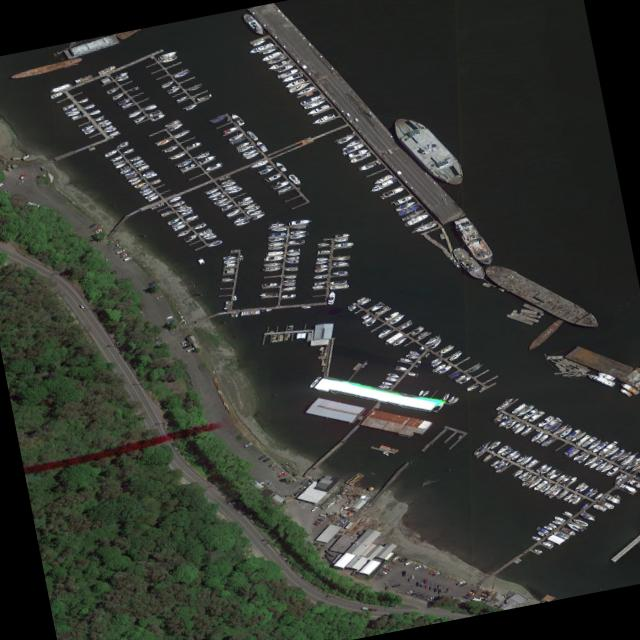large-vehicle: (122, 257, 132, 262)
ship: (474, 262, 607, 333), (383, 113, 475, 191), (563, 346, 635, 380), (451, 216, 498, 268), (9, 56, 84, 82), (447, 246, 491, 282), (62, 34, 119, 60), (522, 319, 566, 352), (239, 12, 268, 37), (585, 373, 616, 388), (368, 179, 397, 193), (503, 313, 534, 326), (409, 222, 437, 235), (342, 472, 366, 487), (471, 440, 493, 456), (247, 42, 274, 55), (404, 213, 430, 226), (400, 209, 426, 222), (287, 81, 313, 94), (618, 451, 640, 466), (493, 397, 516, 411), (311, 113, 335, 126), (48, 82, 72, 95), (305, 104, 330, 116), (266, 60, 290, 72), (345, 148, 369, 160), (595, 443, 617, 456), (259, 51, 282, 63), (299, 95, 322, 107), (302, 99, 327, 110), (514, 405, 535, 418), (393, 201, 417, 212), (348, 153, 372, 164), (618, 383, 640, 395), (514, 313, 540, 323), (397, 205, 420, 216), (280, 73, 303, 84), (342, 143, 365, 154), (382, 187, 405, 198), (156, 50, 179, 61), (520, 303, 543, 314), (590, 441, 609, 454), (283, 78, 305, 89), (335, 134, 357, 145), (535, 416, 555, 428), (622, 458, 640, 471), (266, 55, 287, 66), (564, 522, 585, 533), (519, 475, 538, 487), (607, 449, 626, 461), (568, 431, 587, 443), (546, 487, 565, 499), (540, 419, 559, 431), (526, 411, 545, 423), (519, 409, 538, 421), (228, 113, 245, 126), (72, 74, 94, 84), (617, 483, 637, 494), (197, 154, 217, 165), (602, 447, 620, 459), (585, 439, 603, 451), (573, 434, 591, 446), (509, 403, 527, 415), (279, 68, 300, 78), (372, 175, 393, 185), (248, 160, 269, 170), (387, 314, 406, 325), (306, 377, 323, 389), (295, 86, 315, 96), (357, 162, 377, 172), (394, 195, 414, 205), (97, 65, 117, 75), (615, 451, 633, 462), (579, 437, 597, 448), (564, 429, 582, 440), (541, 485, 559, 496), (382, 311, 400, 322), (553, 423, 571, 434), (286, 174, 302, 186), (343, 139, 362, 149), (570, 518, 589, 528), (559, 527, 578, 537), (493, 462, 510, 473), (581, 456, 598, 467), (557, 427, 574, 438), (526, 478, 543, 489), (531, 480, 548, 491), (422, 336, 440, 346), (391, 337, 409, 347), (276, 64, 296, 73), (596, 372, 616, 381), (427, 339, 443, 350), (587, 459, 603, 470), (602, 495, 621, 504), (172, 70, 191, 79), (551, 531, 570, 540), (203, 163, 222, 172), (155, 138, 174, 147), (466, 364, 483, 374), (438, 345, 455, 355), (413, 330, 430, 340), (593, 461, 610, 471), (561, 476, 578, 486), (372, 306, 389, 316), (397, 321, 414, 331), (496, 418, 513, 428), (254, 141, 269, 152), (408, 327, 426, 336), (271, 181, 289, 190), (578, 513, 596, 522), (179, 163, 197, 172), (169, 152, 187, 161), (173, 130, 191, 139), (162, 120, 180, 129), (288, 219, 311, 226), (518, 456, 534, 466), (604, 466, 620, 476), (598, 464, 614, 474), (538, 437, 554, 447), (529, 432, 545, 442), (538, 483, 554, 493), (245, 130, 259, 141), (436, 365, 453, 374), (376, 328, 393, 337), (149, 113, 166, 122), (210, 115, 227, 124), (167, 123, 184, 132), (221, 126, 238, 135), (227, 133, 244, 142), (494, 445, 509, 455), (523, 459, 538, 469), (625, 479, 640, 489), (447, 352, 463, 361), (369, 303, 385, 312), (195, 94, 213, 102), (617, 388, 633, 397), (163, 145, 179, 154), (236, 145, 254, 153), (627, 463, 640, 474), (258, 167, 275, 175), (265, 174, 282, 182), (276, 186, 293, 194), (206, 240, 223, 248), (176, 160, 193, 168), (184, 142, 201, 150), (244, 152, 261, 160), (230, 137, 247, 145), (212, 197, 229, 205), (431, 364, 446, 373), (504, 450, 519, 459), (576, 454, 591, 463), (571, 452, 586, 461), (566, 449, 581, 458), (535, 434, 550, 443), (555, 490, 570, 499), (547, 471, 562, 480), (557, 475, 572, 484), (548, 423, 563, 432), (512, 425, 527, 434), (274, 162, 287, 172), (591, 504, 607, 512), (159, 81, 175, 89), (161, 56, 177, 64), (63, 107, 79, 115), (114, 141, 130, 149), (231, 216, 247, 224), (244, 206, 260, 214), (225, 209, 241, 217), (236, 196, 252, 204), (241, 149, 257, 157), (234, 141, 250, 149), (216, 200, 232, 208), (226, 187, 242, 195), (431, 403, 445, 412), (572, 482, 586, 491), (519, 426, 533, 435), (504, 420, 518, 429), (491, 413, 505, 422), (447, 371, 462, 379), (166, 87, 181, 95), (251, 39, 266, 47), (363, 319, 378, 327), (127, 111, 142, 119), (105, 87, 120, 95), (103, 150, 118, 158), (242, 203, 257, 211), (197, 229, 212, 237), (183, 235, 198, 243), (184, 214, 199, 222), (178, 209, 193, 217), (177, 206, 192, 214), (221, 181, 236, 189), (488, 441, 501, 450), (511, 469, 524, 478), (264, 256, 283, 262), (519, 309, 538, 315), (265, 251, 284, 257), (453, 375, 467, 383), (499, 448, 513, 456), (465, 384, 479, 392), (534, 464, 548, 472), (561, 493, 575, 501), (187, 85, 203, 92), (261, 48, 277, 55), (360, 316, 374, 324), (327, 291, 335, 305), (147, 111, 163, 118), (111, 93, 125, 101), (234, 220, 250, 227), (194, 153, 210, 160), (224, 184, 238, 192), (80, 125, 95, 132), (116, 99, 131, 106), (114, 72, 129, 79), (167, 196, 182, 203), (170, 201, 185, 208), (536, 528, 551, 535), (250, 213, 265, 220), (247, 210, 262, 217), (175, 231, 190, 238), (172, 224, 187, 231), (170, 221, 185, 228), (166, 218, 181, 225), (205, 188, 220, 195), (206, 192, 221, 199), (210, 195, 225, 202), (220, 204, 235, 211), (493, 461, 506, 469), (517, 471, 530, 479), (520, 474, 533, 482), (563, 447, 576, 455), (539, 466, 552, 474), (333, 243, 353, 248), (262, 262, 282, 267), (458, 377, 472, 384), (184, 104, 198, 111), (50, 92, 64, 99), (66, 111, 80, 118), (143, 105, 157, 112), (552, 516, 566, 523), (113, 162, 127, 169), (126, 176, 140, 183), (132, 182, 146, 189), (136, 164, 150, 171), (239, 200, 253, 207), (200, 232, 214, 239), (193, 223, 207, 230), (159, 210, 173, 217), (480, 454, 492, 462), (566, 495, 578, 503), (570, 497, 582, 505), (586, 490, 598, 498), (577, 485, 589, 493), (270, 227, 286, 233), (522, 313, 538, 319), (267, 237, 286, 242), (329, 285, 348, 290), (328, 280, 347, 285), (514, 456, 527, 463), (62, 104, 75, 111), (358, 299, 371, 306), (110, 156, 123, 163), (112, 159, 125, 166), (119, 168, 132, 175), (130, 179, 143, 186), (141, 170, 154, 177), (138, 187, 151, 194), (174, 204, 187, 211), (386, 373, 401, 379), (268, 232, 286, 237), (267, 242, 285, 247), (263, 267, 281, 272), (333, 256, 351, 261), (583, 488, 594, 496), (331, 271, 348, 276), (267, 223, 284, 228), (267, 246, 284, 251), (287, 240, 304, 245), (510, 453, 522, 460), (545, 469, 557, 476), (554, 474, 566, 481), (120, 102, 134, 108), (115, 76, 129, 82), (219, 179, 233, 185), (217, 175, 231, 181), (124, 174, 138, 180), (143, 193, 157, 199), (147, 195, 159, 202), (398, 358, 414, 363), (261, 283, 277, 288), (175, 96, 188, 102), (83, 129, 96, 135), (97, 119, 110, 125), (133, 117, 146, 123), (133, 162, 146, 168), (131, 160, 144, 166), (149, 179, 162, 185), (541, 542, 554, 548), (204, 235, 217, 241), (489, 460, 500, 467), (613, 473, 624, 480), (579, 503, 590, 510), (258, 293, 277, 297), (288, 225, 307, 229), (393, 366, 408, 371), (314, 268, 329, 273), (331, 262, 349, 266), (355, 297, 367, 303), (104, 128, 116, 134), (88, 110, 100, 116), (100, 122, 112, 128), (107, 131, 119, 137), (123, 171, 135, 177), (122, 148, 134, 154), (145, 173, 157, 179), (141, 190, 153, 196), (510, 423, 522, 429), (314, 264, 328, 269), (441, 394, 451, 401), (420, 390, 430, 397), (376, 385, 390, 390), (384, 377, 398, 382), (593, 493, 603, 500), (222, 256, 236, 261), (289, 235, 306, 239), (431, 361, 442, 367), (429, 358, 440, 364), (102, 125, 113, 131), (562, 511, 573, 517), (547, 523, 558, 529), (408, 351, 421, 356), (82, 105, 95, 110), (446, 396, 455, 403), (333, 238, 348, 242), (334, 234, 349, 238), (450, 398, 460, 404), (312, 275, 327, 279), (361, 314, 371, 320), (311, 285, 326, 289), (77, 99, 89, 104), (71, 114, 81, 120), (285, 252, 300, 256), (280, 294, 295, 298), (346, 303, 356, 309), (118, 166, 130, 171), (129, 157, 141, 162), (542, 526, 554, 531), (404, 355, 418, 359), (380, 382, 394, 386), (284, 260, 298, 264), (286, 249, 300, 253), (222, 263, 236, 267), (128, 87, 139, 92), (138, 185, 149, 190), (532, 549, 543, 554), (530, 536, 541, 541), (413, 361, 422, 367), (509, 310, 518, 316), (348, 306, 357, 312), (317, 250, 330, 254), (317, 243, 330, 247), (282, 279, 295, 283), (282, 283, 295, 287), (282, 287, 295, 291), (550, 521, 563, 525), (221, 278, 234, 282), (223, 260, 236, 264), (289, 231, 306, 234), (612, 494, 622, 499), (94, 117, 104, 122), (481, 283, 491, 288), (417, 390, 424, 397), (315, 261, 327, 265), (309, 507, 318, 512), (536, 532, 545, 537), (407, 373, 418, 377), (314, 282, 325, 286), (229, 249, 240, 253), (633, 476, 640, 482), (377, 195, 385, 200), (305, 92, 313, 97), (316, 258, 329, 261), (284, 268, 297, 271), (286, 257, 299, 260), (283, 276, 296, 279), (261, 309, 272, 312), (300, 306, 311, 309), (238, 255, 243, 261), (232, 295, 236, 301), (274, 182, 281, 185), (170, 86, 176, 89), (265, 166, 271, 168)
small-vehicle: (243, 442, 252, 448), (115, 249, 125, 254), (257, 455, 267, 460), (455, 581, 465, 586), (148, 283, 157, 288), (186, 348, 195, 353), (112, 246, 121, 251), (92, 227, 100, 232), (180, 340, 188, 345), (261, 458, 269, 463), (267, 463, 275, 468), (278, 473, 286, 478), (264, 482, 272, 487), (405, 590, 415, 594), (410, 592, 420, 596), (404, 561, 412, 566), (119, 254, 128, 258), (181, 342, 190, 346), (425, 597, 434, 601), (391, 584, 400, 588), (427, 571, 436, 575), (431, 572, 440, 576), (469, 589, 478, 593), (276, 471, 283, 476), (118, 252, 126, 256), (155, 295, 163, 299), (183, 345, 191, 349), (271, 467, 279, 471), (318, 514, 326, 518), (15, 181, 23, 185), (383, 567, 391, 571), (413, 566, 421, 570), (467, 591, 475, 595), (79, 304, 85, 309), (19, 174, 25, 179), (418, 595, 428, 598), (368, 609, 378, 612), (95, 229, 102, 233), (88, 224, 95, 228), (147, 281, 154, 285), (165, 316, 172, 320), (315, 520, 322, 524), (459, 583, 466, 587), (389, 561, 398, 564), (378, 571, 387, 574), (422, 579, 427, 584), (299, 481, 305, 485), (333, 535, 339, 539), (415, 594, 423, 597), (381, 569, 389, 572), (401, 571, 405, 577), (464, 594, 472, 597), (316, 519, 323, 522), (312, 523, 319, 526), (377, 573, 384, 576), (462, 596, 469, 599), (437, 589, 441, 594), (445, 588, 450, 592), (407, 578, 411, 583), (428, 586, 432, 590), (424, 585, 428, 589), (436, 585, 440, 589), (384, 586, 388, 590), (415, 582, 418, 587), (433, 588, 436, 592), (410, 575, 413, 579), (419, 584, 423, 587), (0, 183, 3, 186)
